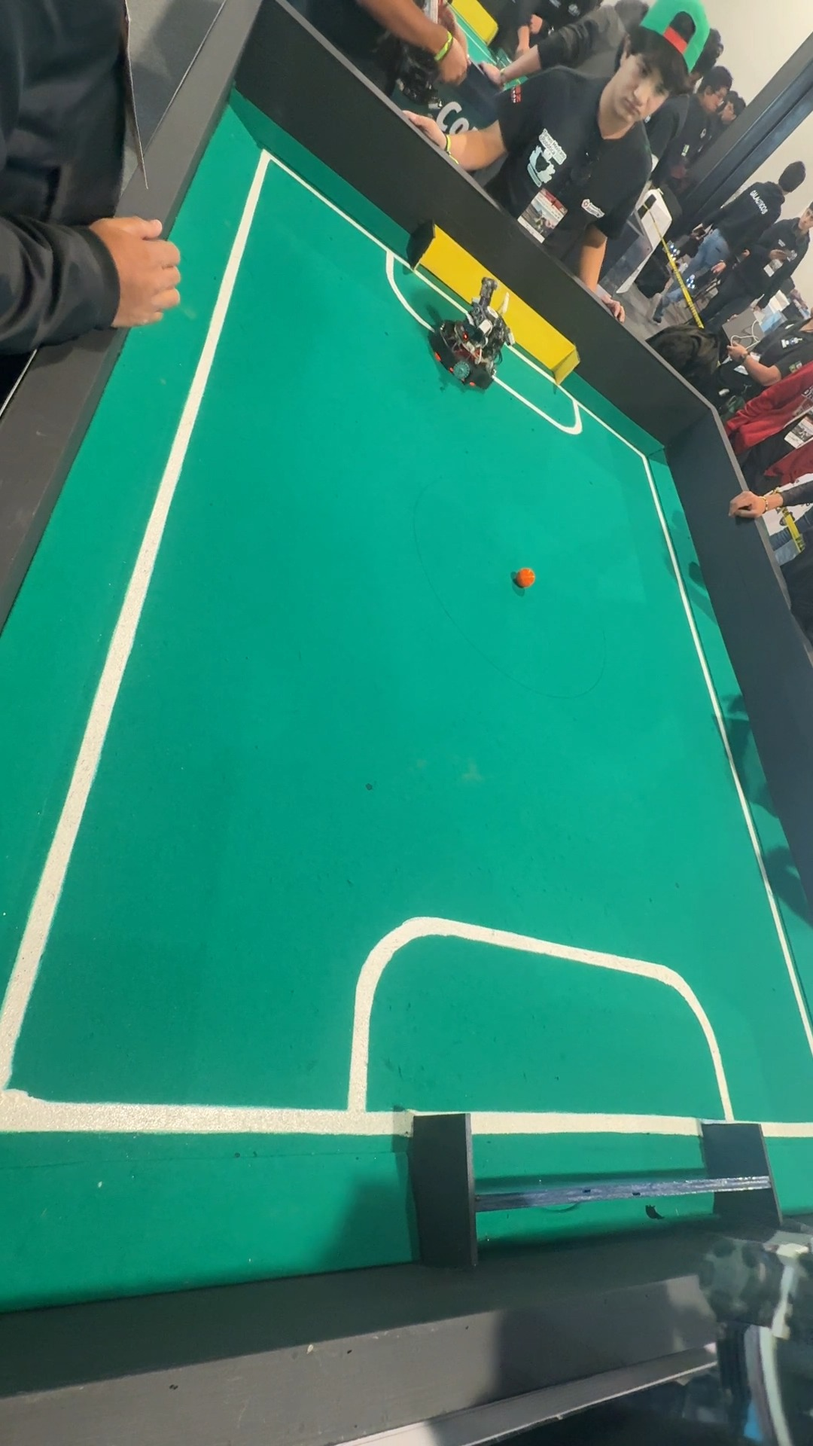Robot: (421, 266, 514, 405)
pelota: (513, 561, 543, 596)
